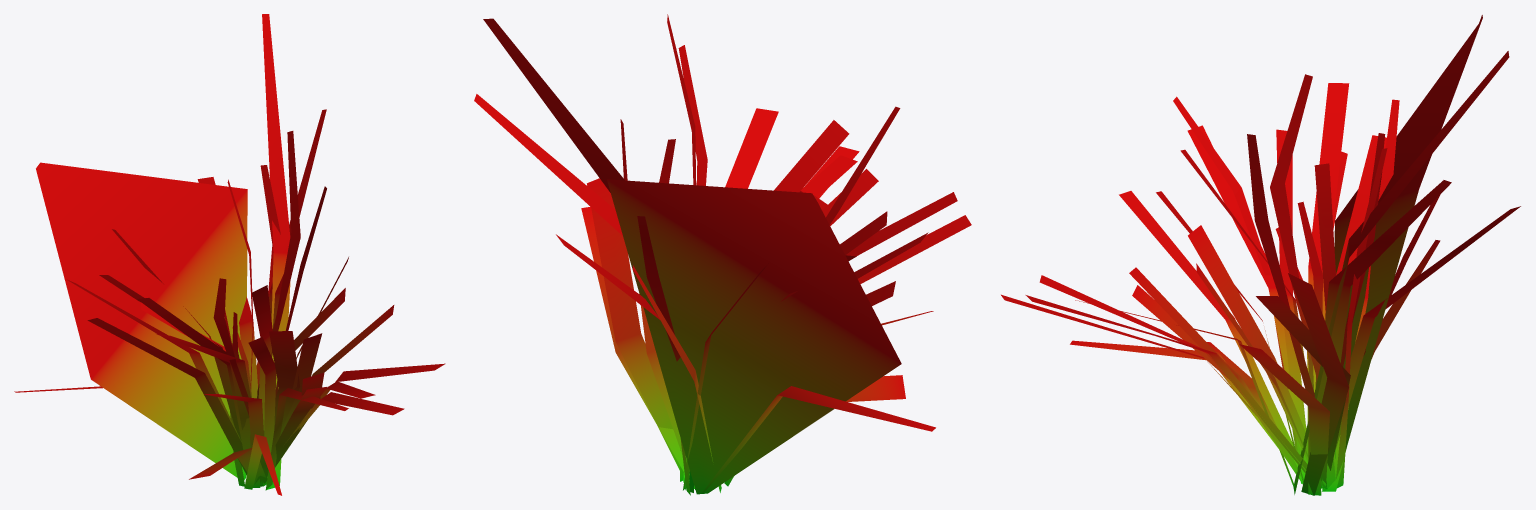
Rendered from Var3_LOD2.fbx.
3 renders of one model, left to right at view 1: azimuth 30°, elevation 25°; view 2: azimuth 150°, elevation 25°; view 3: azimuth 270°, elevation 25°, orthographic. The views are drawn at different scales.
Visible parts, largest first — view 1: _28ba_Var3_LOD2; view 2: _28ba_Var3_LOD2; view 3: _28ba_Var3_LOD2.
Part boxes in pixels (bbox=[...]): _28ba_Var3_LOD2: bbox=[14, 14, 445, 495]; _28ba_Var3_LOD2: bbox=[474, 14, 971, 495]; _28ba_Var3_LOD2: bbox=[1001, 15, 1520, 495].
Size of the model in its own units: 57.29 by 65.04 by 63.13.
